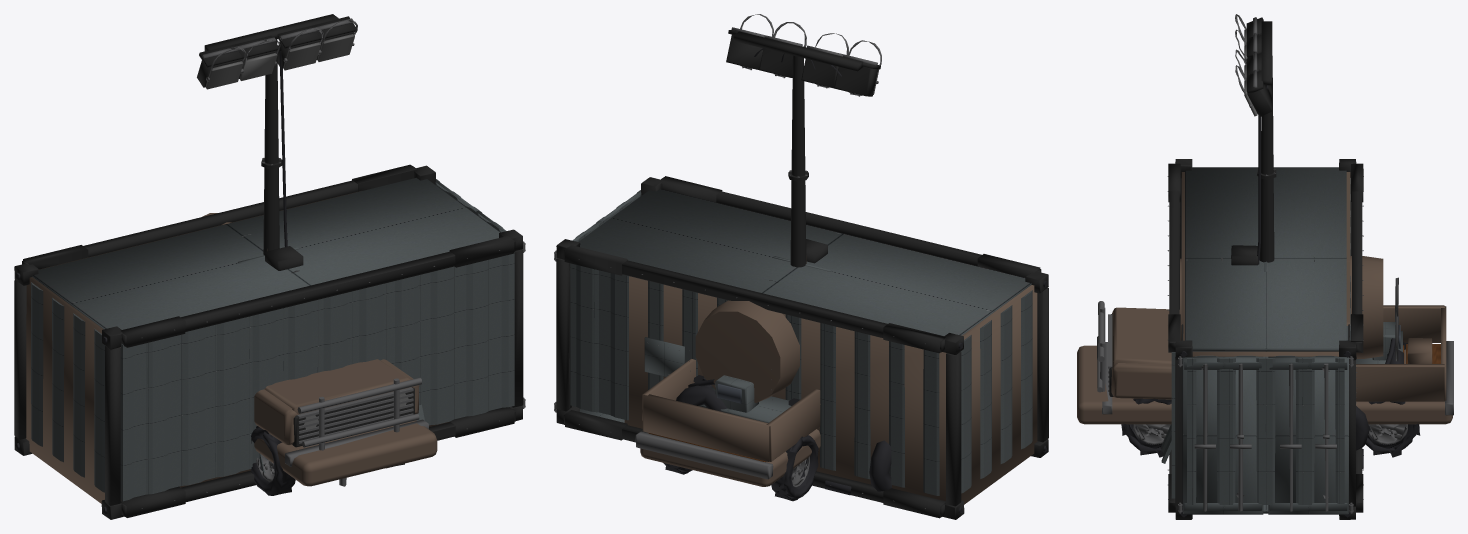
File: wasteland-props.glb
3 renders of one model, left to right at view 1: azimuth 30°, elevation 25°; view 2: azimuth 150°, elevation 25°; view 3: azimuth 270°, elevation 25°, orthographic. The views are drawn at different scales.
Parts seen in each view (by area): view 1: shipping-container, pickup-battered, floodlight-mast, wheel-fl/rubber, fuel-bowser; view 2: shipping-container, pickup-battered, fuel-bowser, floodlight-mast, wheel-rl/rubber, wreck-barricade; view 3: shipping-container, pickup-battered, end-s/panel, end-n/panel, floodlight-mast, fuel-bowser, end-n/steel, end-s/steel, wheel-rr/rubber, wheel-fr/rubber, wreck-barricade, wheel-rr/steel (+1 smaller).
Boxes of the visible parts, left/top/right/bottom form: shipping-container: left=14, top=164, right=523, bottom=519; pickup-battered: left=254, top=359, right=437, bottom=486; floodlight-mast: left=197, top=14, right=357, bottom=255; wheel-fl/rubber: left=251, top=426, right=295, bottom=495; fuel-bowser: left=202, top=213, right=346, bottom=486; shipping-container: left=556, top=176, right=1048, bottom=519; pickup-battered: left=635, top=359, right=820, bottom=486; fuel-bowser: left=688, top=239, right=827, bottom=422; floodlight-mast: left=726, top=14, right=881, bottom=267; wheel-rl/rubber: left=771, top=435, right=818, bottom=501; wreck-barricade: left=869, top=440, right=891, bottom=491; shipping-container: left=1167, top=159, right=1363, bottom=519; pickup-battered: left=1077, top=301, right=1453, bottom=424; end-s/panel: left=1268, top=356, right=1348, bottom=514; end-n/panel: left=1182, top=356, right=1263, bottom=514; floodlight-mast: left=1235, top=14, right=1276, bottom=264; fuel-bowser: left=1180, top=245, right=1402, bottom=363; end-n/steel: left=1178, top=356, right=1251, bottom=513; end-s/steel: left=1280, top=356, right=1353, bottom=513; wheel-rr/rubber: left=1365, top=401, right=1420, bottom=457; wheel-fr/rubber: left=1121, top=398, right=1171, bottom=457; wreck-barricade: left=1161, top=406, right=1369, bottom=463; wheel-rr/steel: left=1368, top=424, right=1407, bottom=444.
Bounding box in the file's own units: 6.21 × 5.78 × 5.11.
4 materials, 3 textured.
